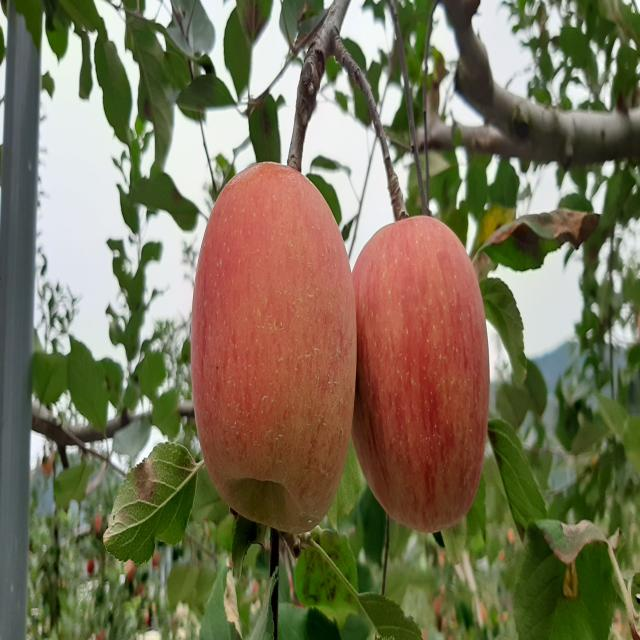fresh: (188, 153, 361, 546), (345, 199, 495, 536)
